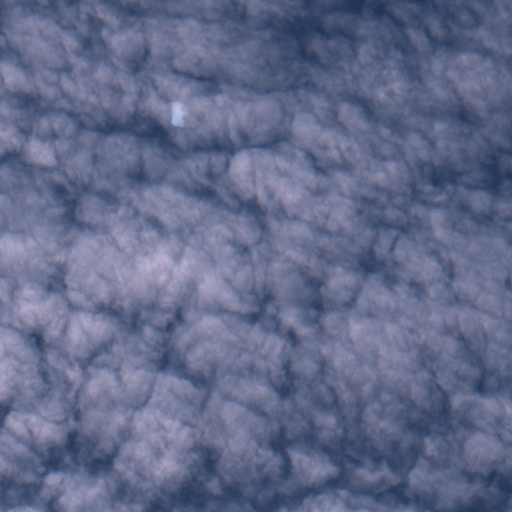Iceberg: (171, 102, 184, 127)
